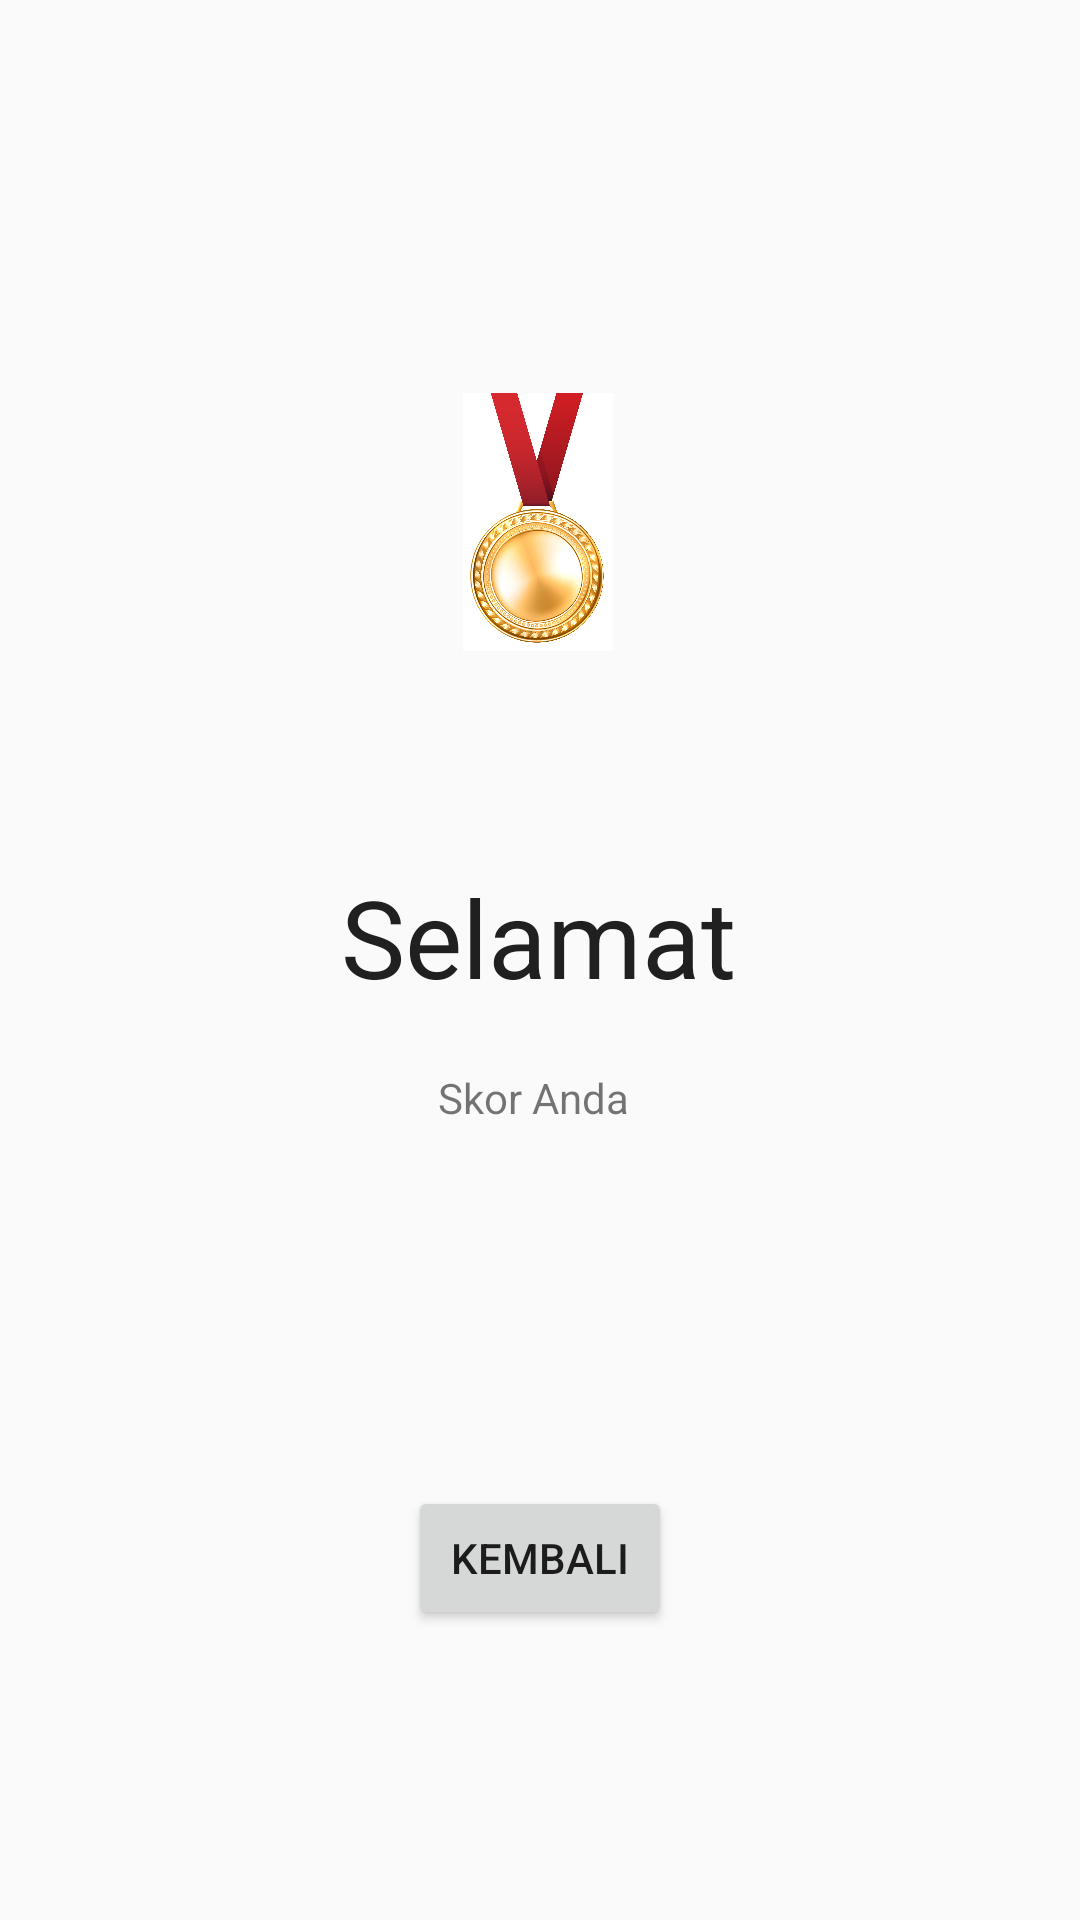

Named icons in this screenshot (1080px×1920px) and their bounding boxes, region(x1, y1, x2, y2):
medal: region(470, 393, 604, 643)
